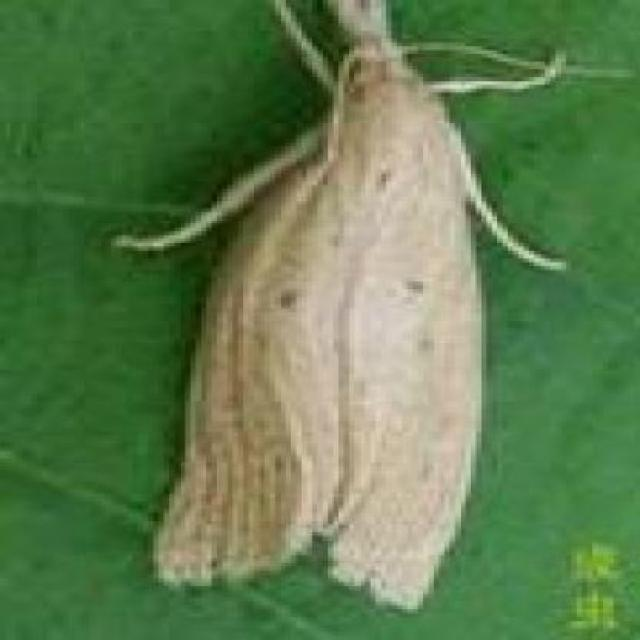stem-borer: (109, 0, 565, 617)
